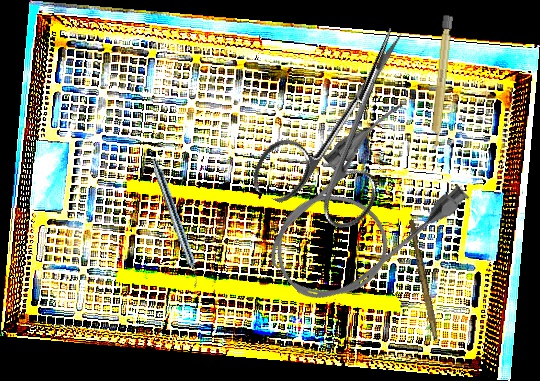Cannula: (241, 94, 479, 326)
Handpiece: (147, 157, 205, 289)
Iris Scissors: (246, 2, 448, 241)
Scalpel Handle: (405, 219, 443, 340), (428, 14, 454, 152)
